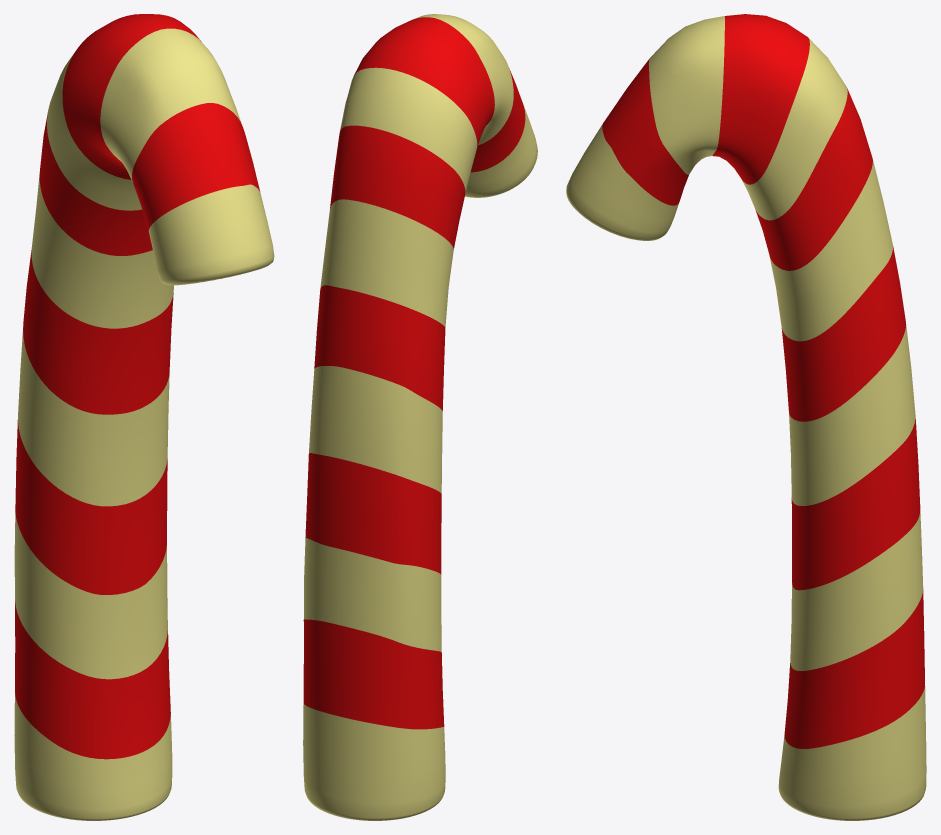
Rendered from Sweet_1.fbx.
3 renders of one model, left to right at view 1: azimuth 30°, elevation 25°; view 2: azimuth 150°, elevation 25°; view 3: azimuth 270°, elevation 25°, orthographic. The views are drawn at different scales.
Visible parts, largest first — view 1: Sweet_1; view 2: Sweet_1; view 3: Sweet_1.
Boxes of the visible parts, left/top/right/bottom form: Sweet_1: left=14, top=14, right=274, bottom=820; Sweet_1: left=303, top=14, right=537, bottom=820; Sweet_1: left=566, top=14, right=926, bottom=820.
Bounding box in the file's own units: 11.42 × 63.38 × 26.78.
